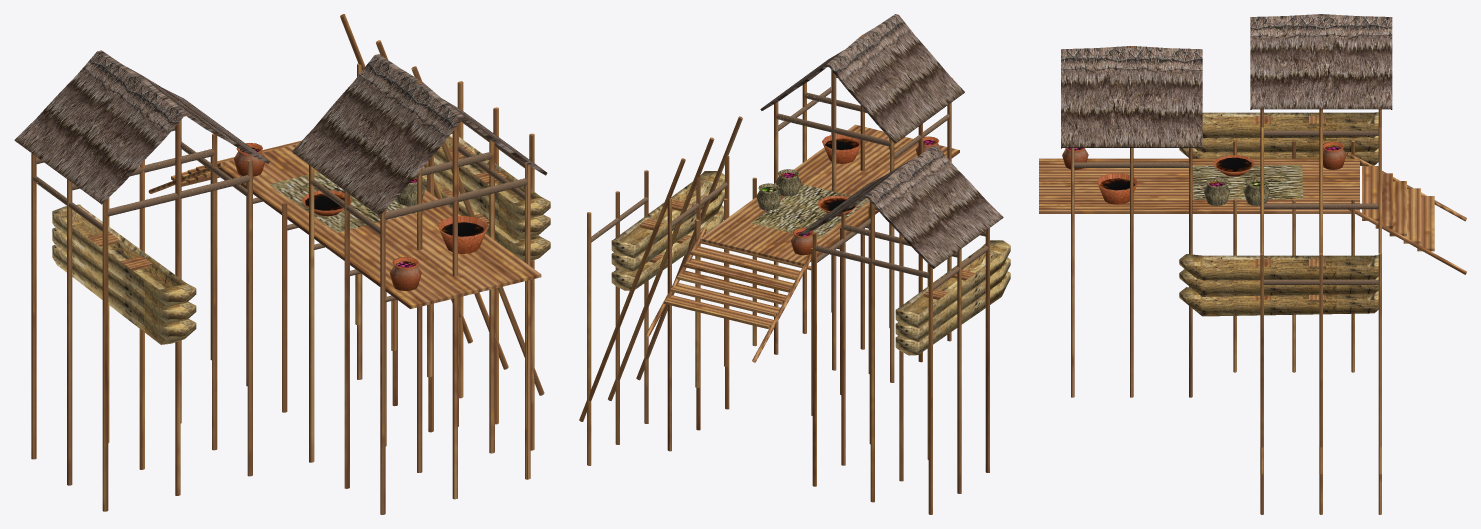
The model's file is tupis_dock.dae.
The picture shows the model from 3 angles, left to right: view 1: azimuth 30°, elevation 25°; view 2: azimuth 150°, elevation 25°; view 3: azimuth 270°, elevation 25°; orthographic projection. The views are drawn at different scales.
Visible parts, largest first — view 1: omagua_DOCA; view 2: omagua_DOCA; view 3: omagua_DOCA.
Part boxes in pixels (box(x1,y1,x2,y2)): omagua_DOCA: box(14, 14, 550, 514); omagua_DOCA: box(579, 14, 1010, 514); omagua_DOCA: box(1039, 14, 1466, 514).
Size of the model in its own units: 25.15 by 24.99 by 25.14.
